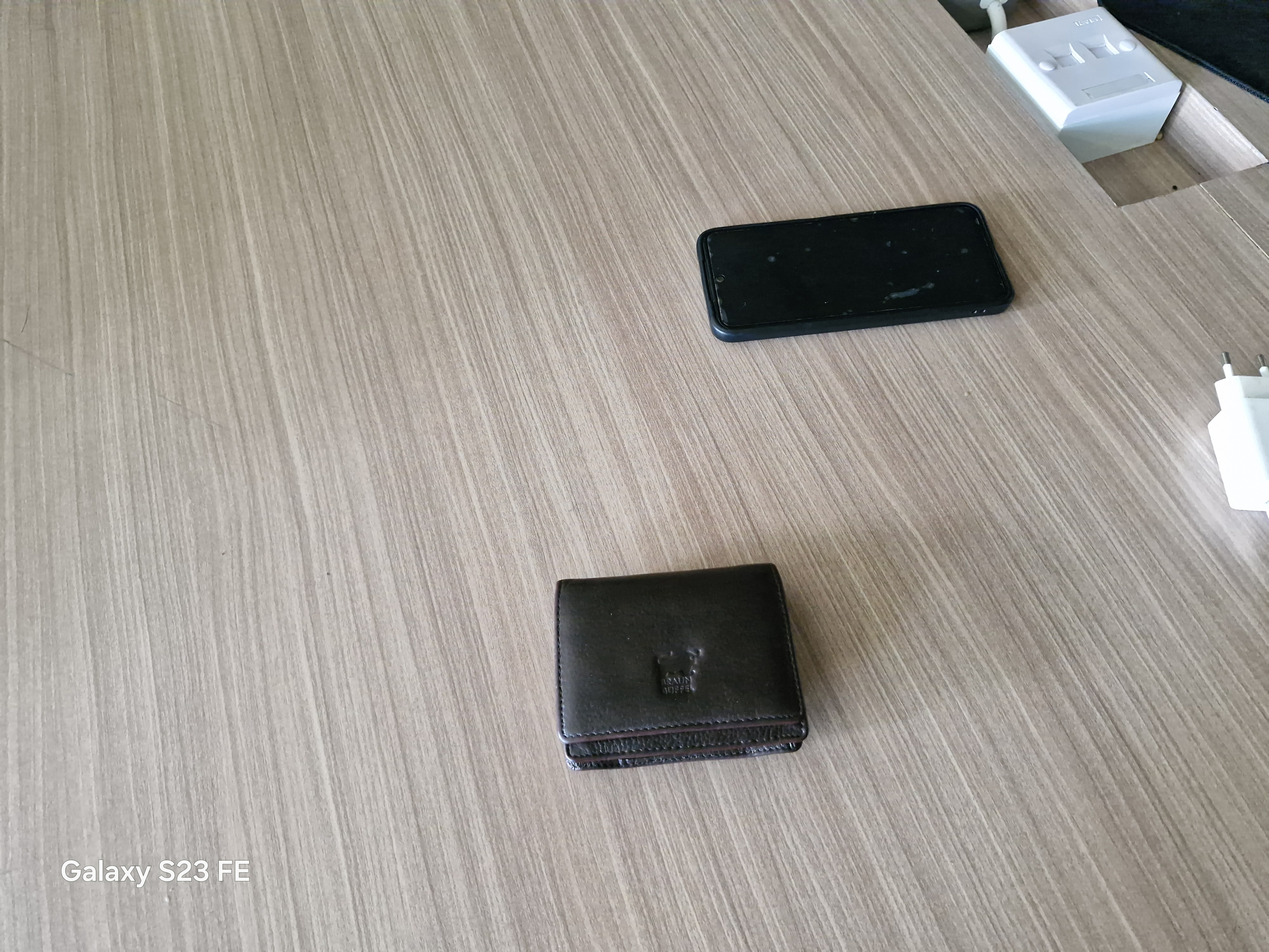cell phone: (698, 202, 1014, 341)
plug: (987, 7, 1181, 162), (1209, 352, 1268, 512)
table-merged: (0, 0, 1268, 951)
wallet: (556, 564, 807, 770)
